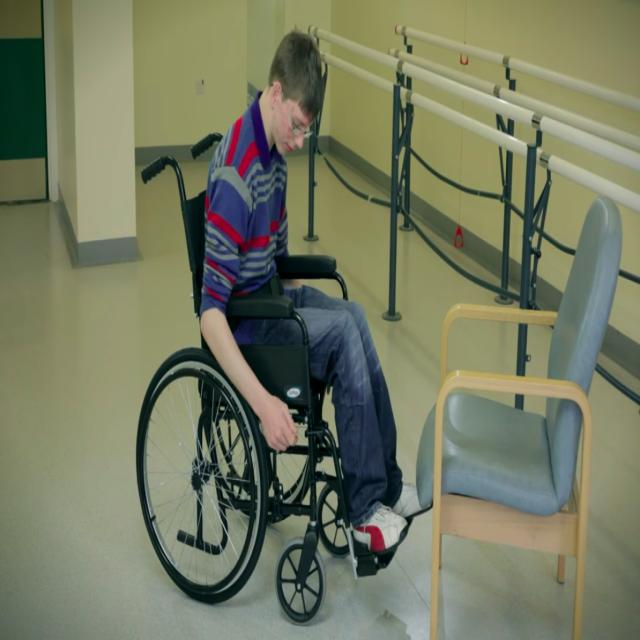wheelchairs: (137, 135, 420, 623)
